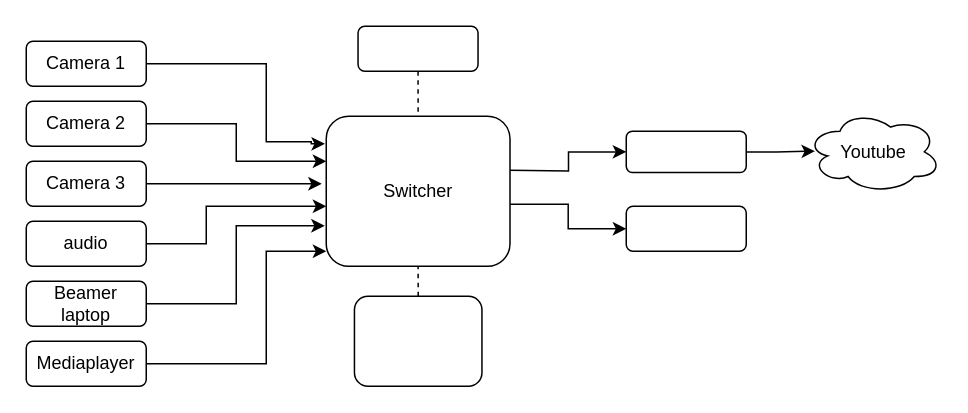
Image size: 968x413. Some labels were removed from this diagram. The centre of each missing label's shape, as x and y in pixels:
"Beamer" goes at point (685, 228).
"Bediening (Laptop + toetsenbord)" goes at point (417, 340).
"Encoder" goes at point (685, 151).
"Monitor" goes at point (417, 48).
